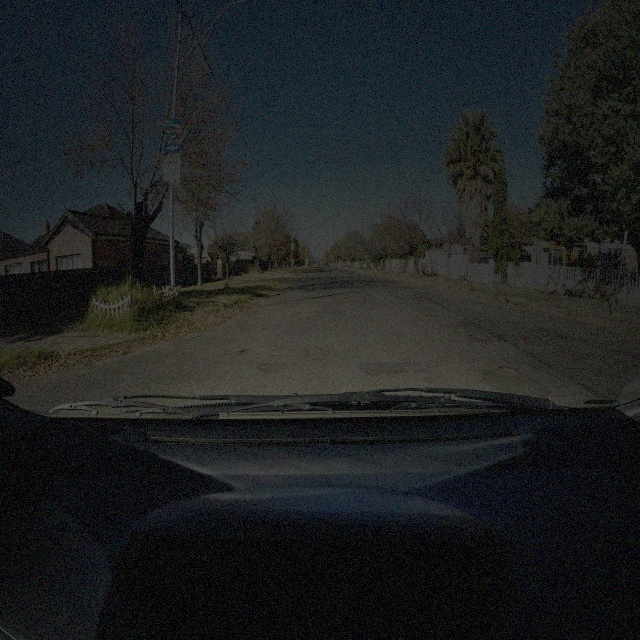pothole: (498, 363, 521, 378), (239, 347, 255, 358), (297, 309, 315, 317)
